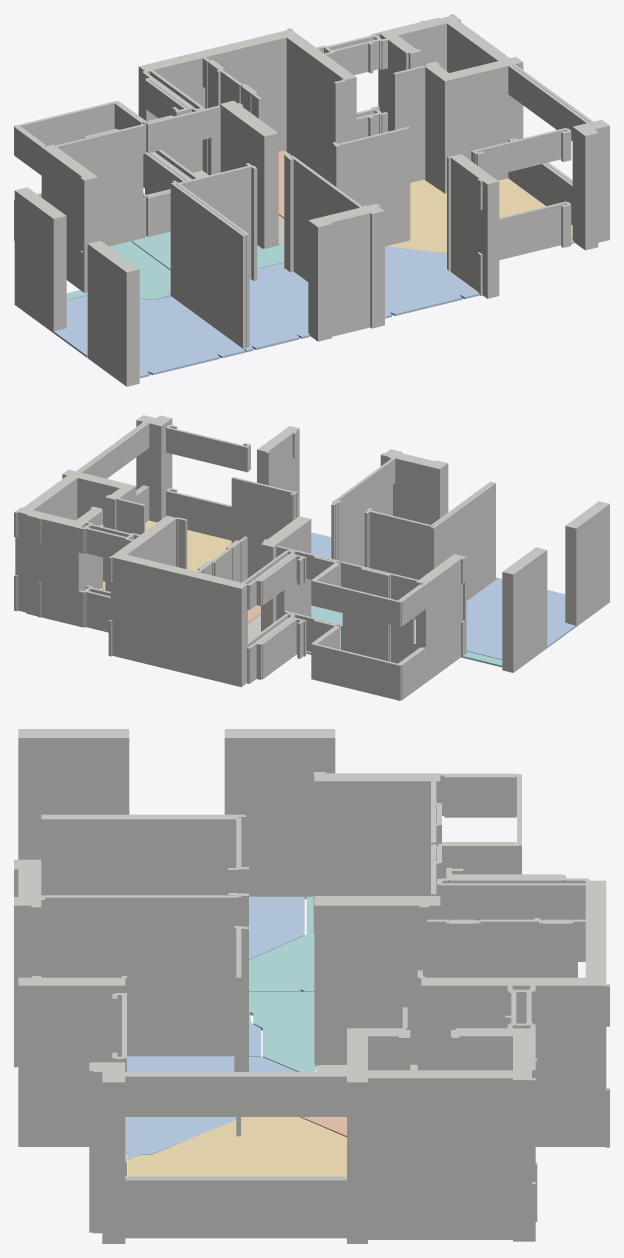
3 views of the same model, one above another, from view 1: azimuth 30°, elevation 25°; view 2: azimuth 150°, elevation 25°; view 3: azimuth 270°, elevation 25° (orthographic). The views are drawn at different scales.
Parts seen in each view (by area): view 1: walls, room:bedroom:3, room:bedroom:6, room:bedroom:5, room:living:7, room:bath:2, room:bath:9; view 2: walls, room:bedroom:3, room:living:7, room:bedroom:6, room:bath:9; view 3: walls, room:living:7, room:bedroom:6, room:bath:9, room:bath:2, room:bedroom:3.
Boxes of the visible parts, left/top/right/bottom form: walls: left=14, top=14, right=609, bottom=386; room:bedroom:3: left=53, top=295, right=245, bottom=378; room:bedroom:6: left=385, top=246, right=479, bottom=318; room:bedroom:5: left=244, top=263, right=309, bottom=352; room:living:7: left=387, top=178, right=573, bottom=253; room:bath:2: left=66, top=241, right=170, bottom=300; room:bath:9: left=131, top=231, right=284, bottom=270; walls: left=14, top=415, right=609, bottom=700; room:bedroom:3: left=466, top=578, right=575, bottom=659; room:living:7: left=103, top=520, right=231, bottom=590; room:bedroom:6: left=311, top=532, right=331, bottom=580; room:bath:9: left=310, top=605, right=342, bottom=649; walls: left=14, top=729, right=609, bottom=1243; room:living:7: left=127, top=1117, right=346, bottom=1175; room:bedroom:6: left=127, top=1056, right=297, bottom=1159; room:bath:9: left=249, top=991, right=315, bottom=1071; room:bath:2: left=249, top=896, right=314, bottom=991; room:bedroom:3: left=249, top=896, right=304, bottom=960.
Bounding box in the file's own units: 13.14 × 2.8 × 9.36.
